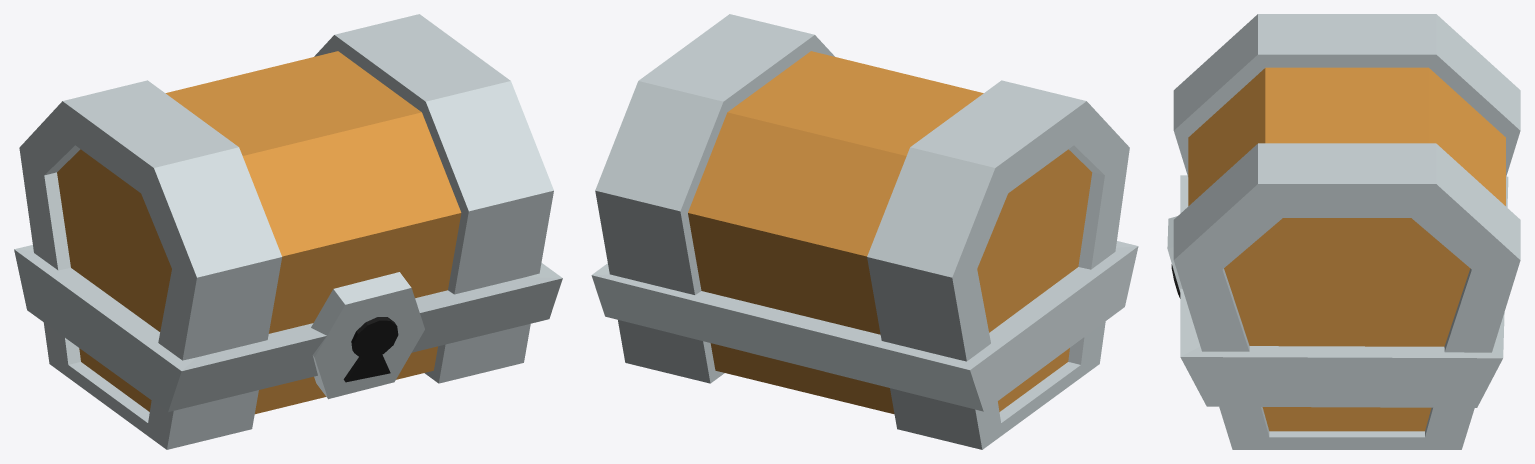
The model's file is Chest.fbx.
3 views of the same model, side by side, from view 1: azimuth 30°, elevation 25°; view 2: azimuth 150°, elevation 25°; view 3: azimuth 270°, elevation 25° (orthographic). The views are drawn at different scales.
Visible parts, largest first — view 1: Top, Bottom, Lock; view 2: Top, Bottom; view 3: Top, Bottom, Lock.
Boxes of the visible parts, bbox=[...] form: Top: bbox=[14, 14, 562, 411]; Bottom: bbox=[43, 322, 530, 449]; Lock: bbox=[311, 272, 424, 399]; Top: bbox=[591, 14, 1138, 411]; Bottom: bbox=[618, 320, 1105, 449]; Top: bbox=[1173, 14, 1520, 407]; Bottom: bbox=[1219, 406, 1474, 449]; Lock: bbox=[1167, 216, 1182, 298].
Bounding box in the file's own units: 125 × 85.47 × 103.
